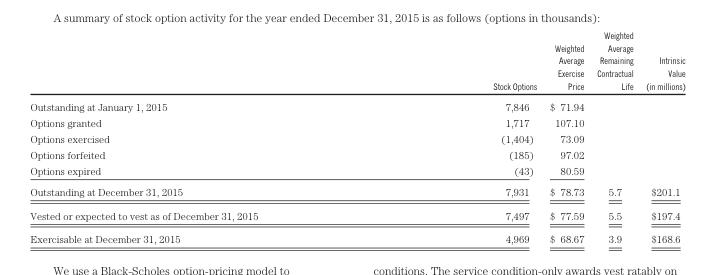table: (29, 29, 684, 244)
table column: (29, 29, 374, 244), (374, 29, 542, 244), (589, 29, 639, 244), (542, 29, 589, 244), (639, 29, 684, 244)
table column header: (29, 29, 684, 95)
table row: (29, 29, 684, 95), (29, 180, 684, 203), (29, 203, 684, 226), (29, 95, 684, 114), (29, 162, 684, 180), (29, 226, 684, 244), (29, 114, 684, 130), (29, 130, 684, 146), (29, 146, 684, 162)
